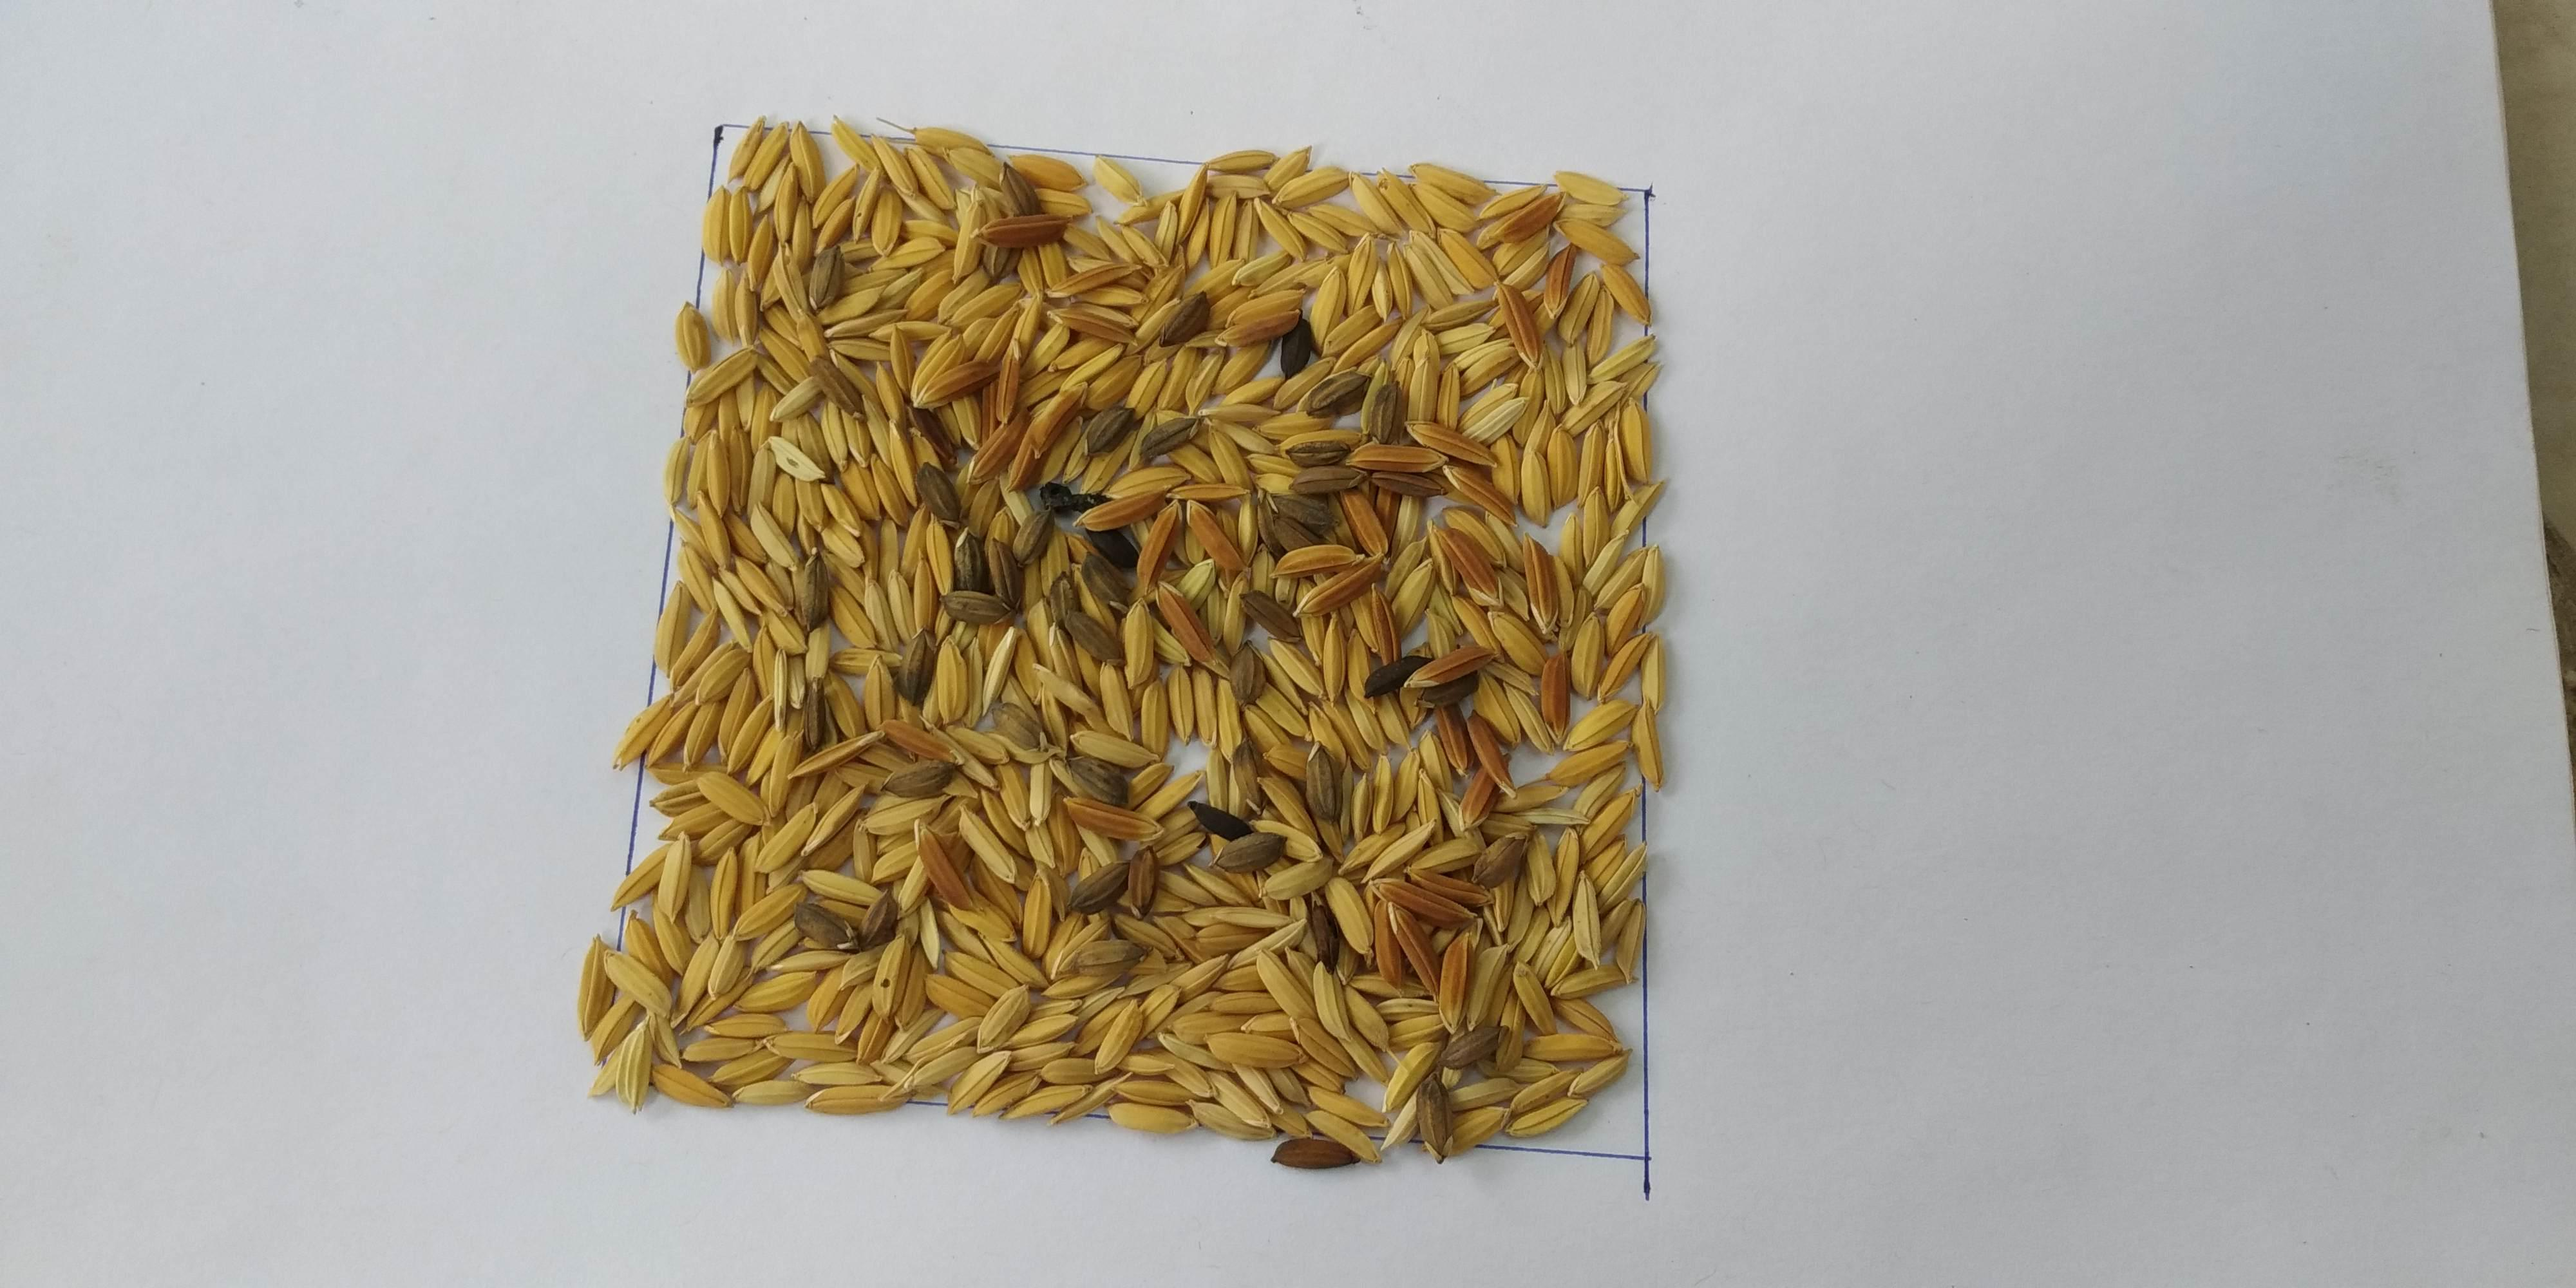impure: (728, 182, 1584, 1104)
